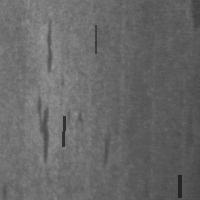inclusion: (35, 94, 50, 164), (43, 17, 56, 74), (100, 125, 116, 168), (64, 106, 85, 127), (61, 114, 66, 148), (93, 23, 97, 55), (177, 173, 181, 199)
